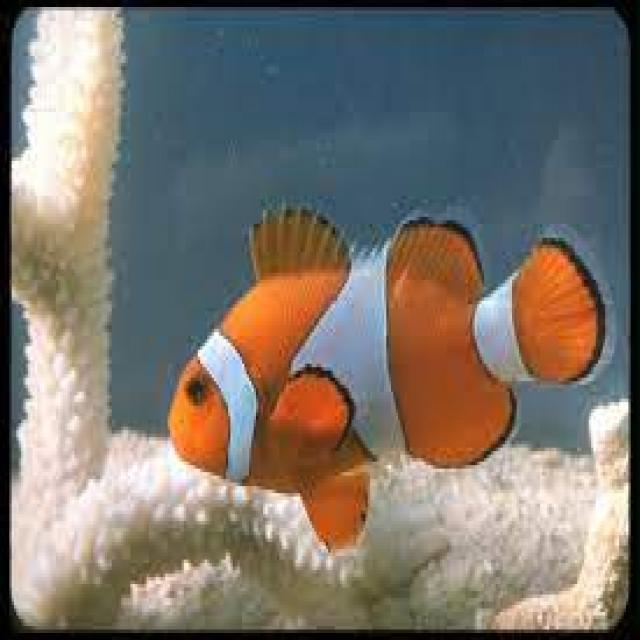ClownFish: (166, 203, 610, 552)
